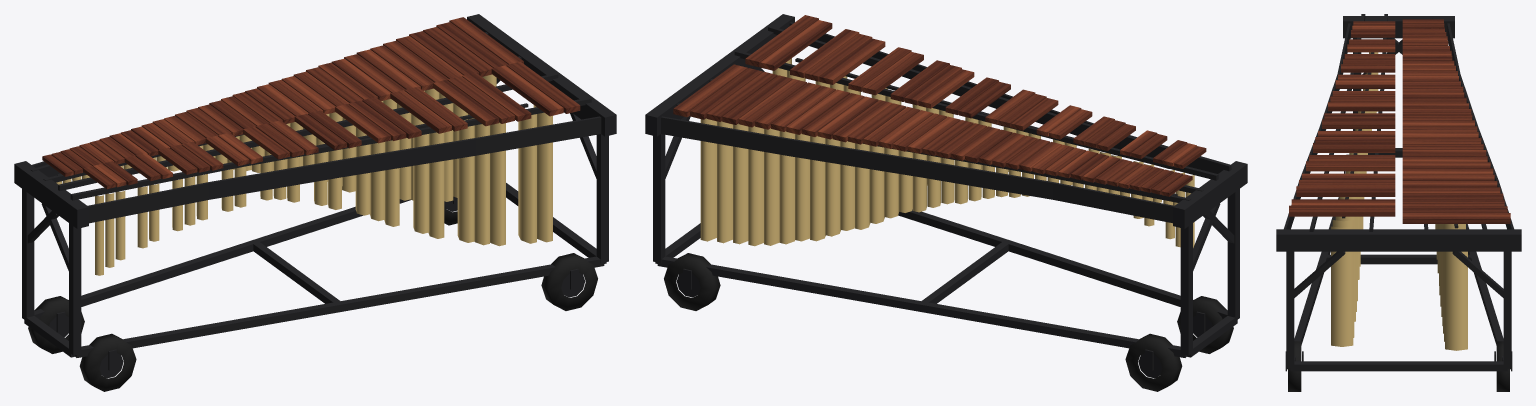
File: marimba-5.0-low.glb
The picture shows the model from 3 angles, left to right: view 1: azimuth 30°, elevation 25°; view 2: azimuth 150°, elevation 25°; view 3: azimuth 270°, elevation 25°; orthographic projection. The views are drawn at different scales.
Visible parts, largest first — view 1: bars-rosewood, frame, resonators-gold, artwork, rubber; view 2: frame, bars-rosewood, resonators-gold, rubber; view 3: bars-rosewood, frame, resonators-gold, rubber.
Boxes of the visible parts, x1,y1,x2,y2 form: bars-rosewood: (42, 17, 580, 189); frame: (14, 14, 616, 378); resonators-gold: (56, 74, 552, 275); artwork: (89, 117, 601, 223); rubber: (28, 203, 597, 391); frame: (645, 14, 1247, 378); bars-rosewood: (673, 15, 1206, 196); resonators-gold: (700, 58, 1194, 247); rubber: (664, 253, 1233, 391); bars-rosewood: (1289, 19, 1510, 223); frame: (1276, 14, 1521, 371); resonators-gold: (1331, 52, 1467, 350); rubber: (1288, 154, 1509, 391).
Bounding box in the file's own units: 2.54 × 0.9759 × 1.21.
Materials: 5 (1 with a texture image).
